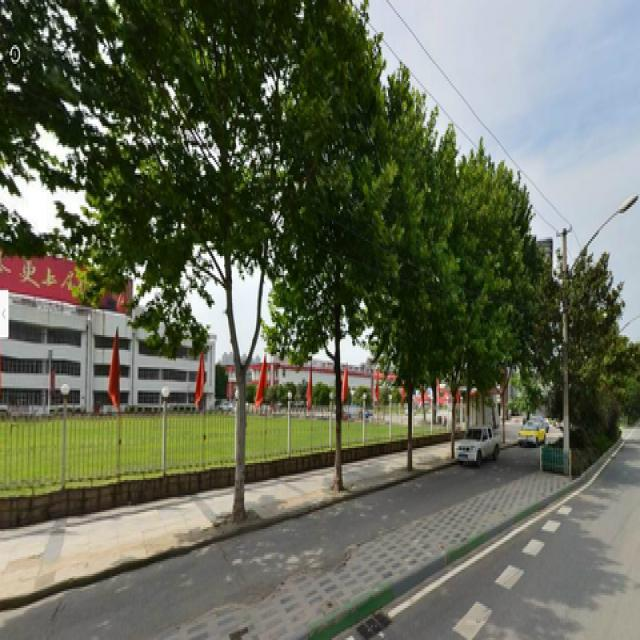meta: (139, 13, 285, 478), (300, 28, 376, 482), (387, 109, 445, 467)
